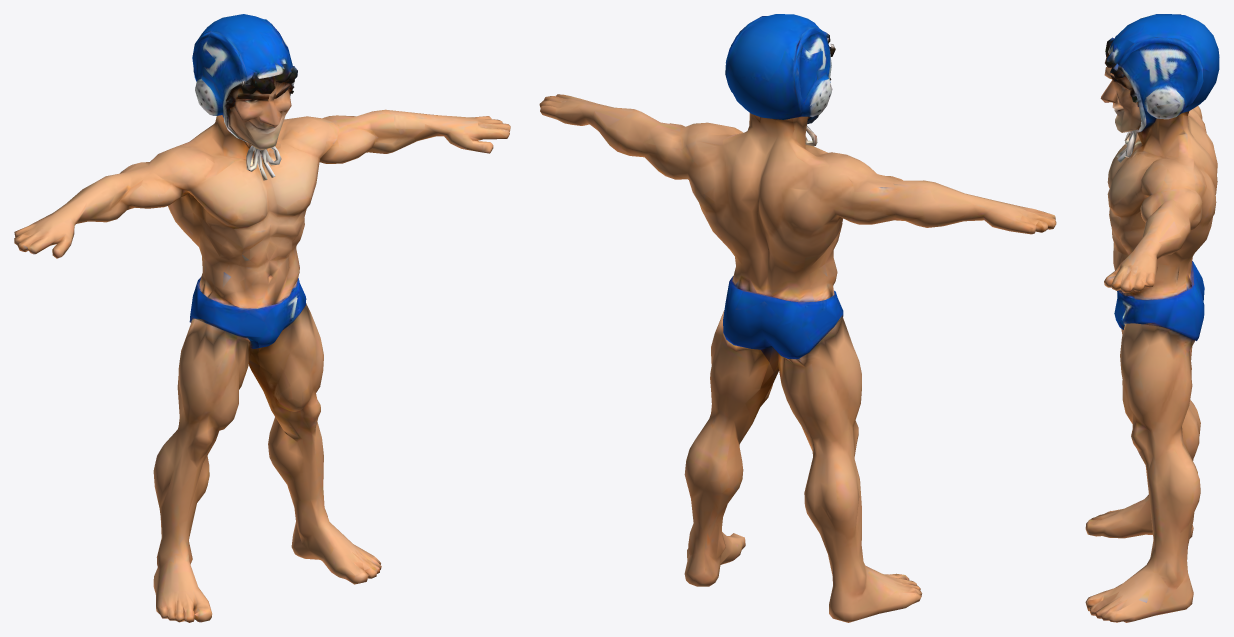
Rendered from player_base_LOD3.glb.
The picture shows the model from 3 angles, left to right: view 1: azimuth 30°, elevation 25°; view 2: azimuth 150°, elevation 25°; view 3: azimuth 270°, elevation 25°; orthographic projection. The views are drawn at different scales.
Parts seen in each view (by area): view 1: player_base_LOD3; view 2: player_base_LOD3; view 3: player_base_LOD3.
Boxes of the visible parts, bbox=[...] form: player_base_LOD3: bbox=[14, 14, 510, 622]; player_base_LOD3: bbox=[539, 14, 1056, 622]; player_base_LOD3: bbox=[1085, 14, 1219, 622].
Bounding box in the file's own units: 1.67 × 1.8 × 0.395.
Materials: 1 (1 with a texture image).
